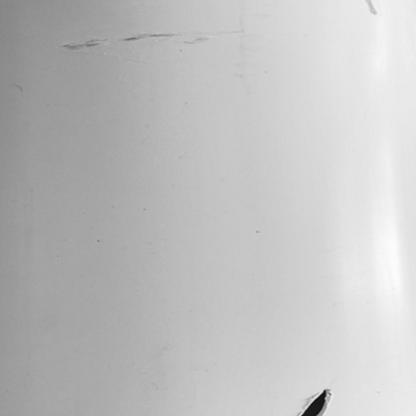kongdong: (294, 389, 333, 416)
sunshang: (61, 30, 243, 51), (360, 1, 379, 18)
